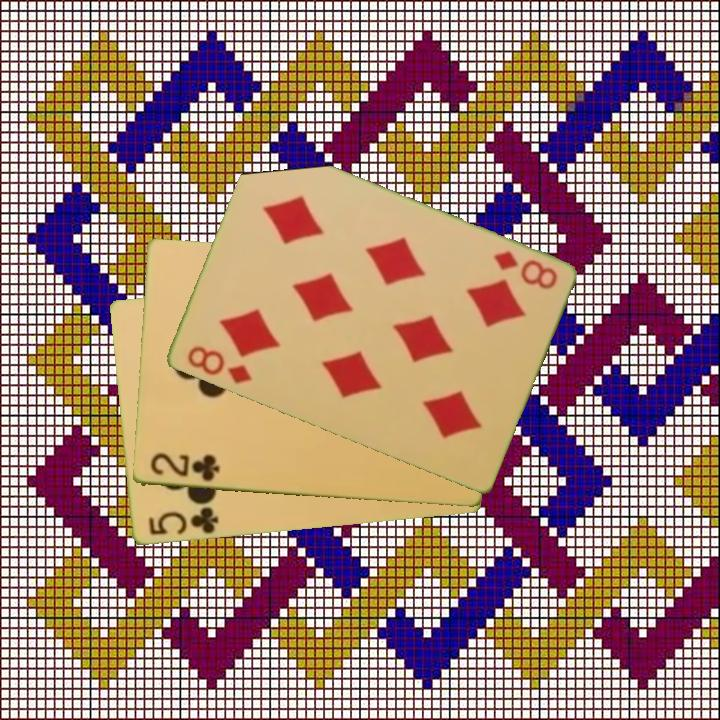2c: (146, 449, 222, 485)
5c: (145, 504, 222, 539)
8d: (489, 247, 560, 293), (183, 342, 255, 387)
